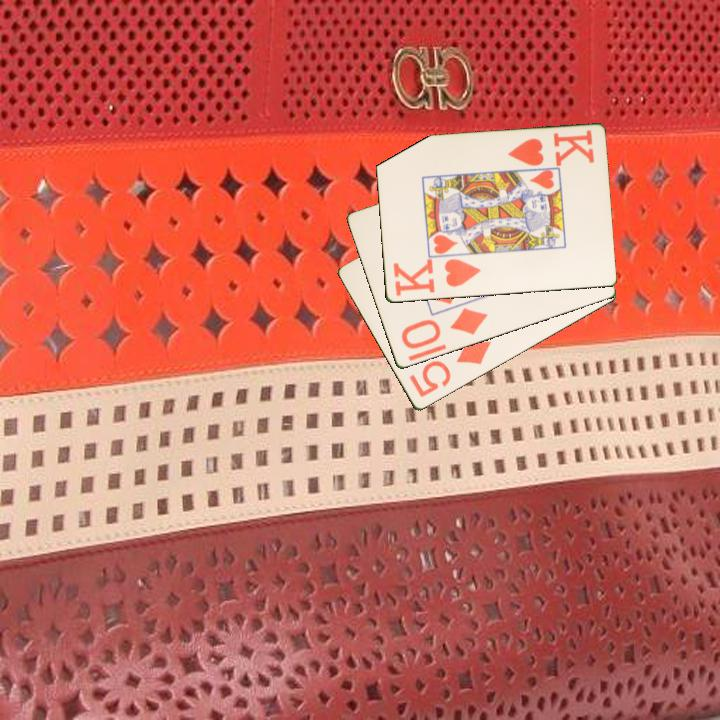10d: (397, 304, 491, 352)
5d: (405, 336, 494, 401)
Kh: (389, 256, 483, 299), (504, 127, 597, 169)
